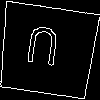U: (23, 25, 61, 76)
